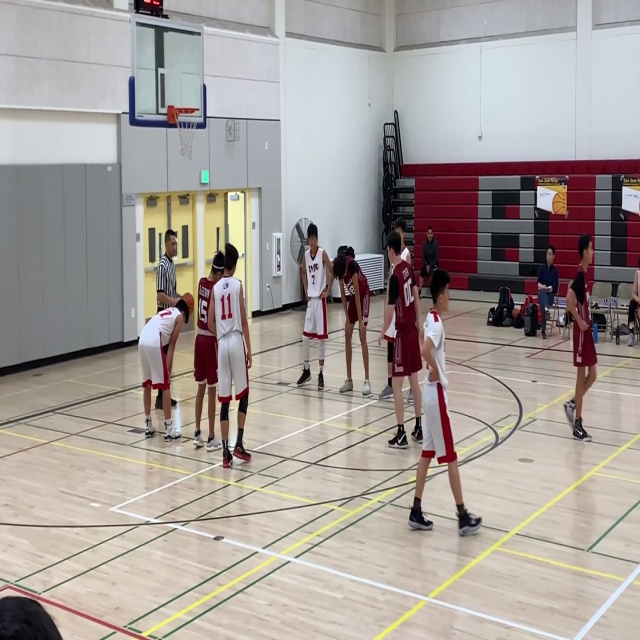Basketball: (182, 292, 194, 309)
